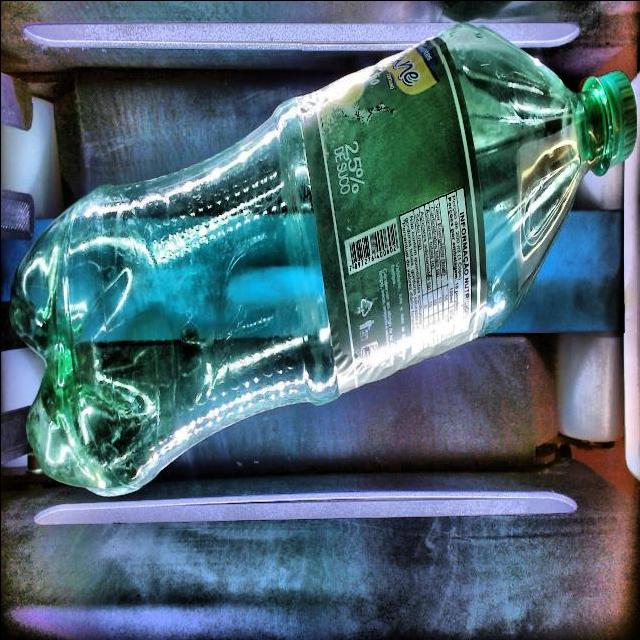bottom: (12, 102, 315, 494)
code: (344, 219, 398, 273)
label: (301, 41, 484, 391)
neck: (442, 25, 635, 331)
